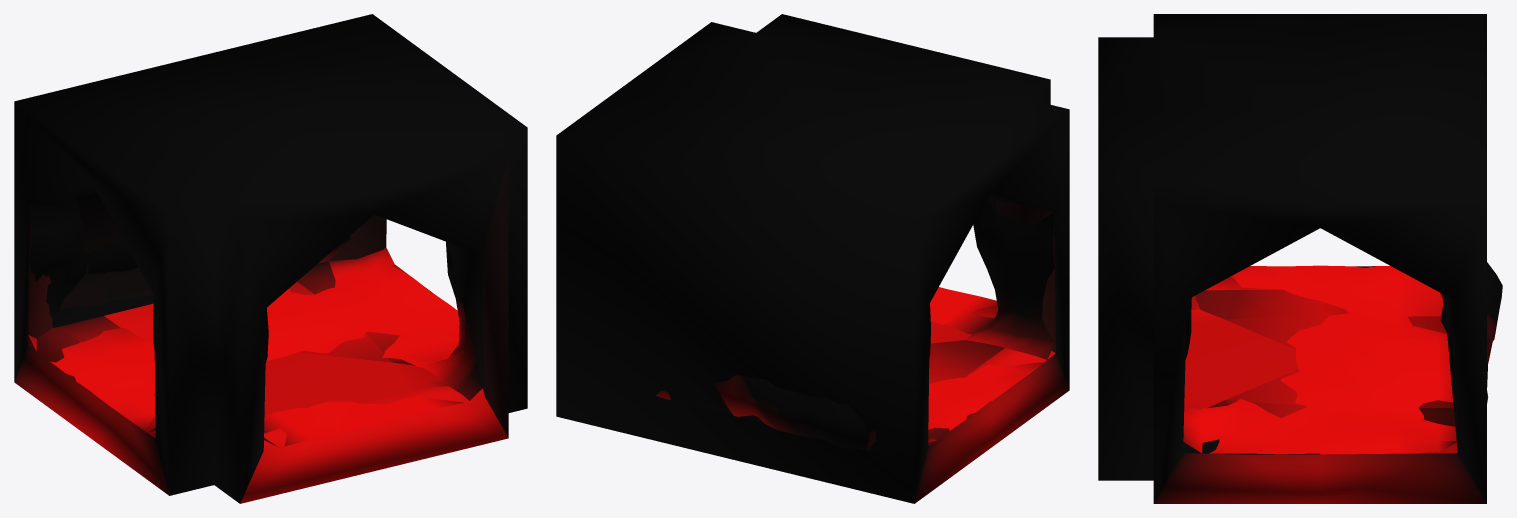
Rendered from JD_Cave_A_Tunnel_6x6_3Way_01.fbx.
3 views of the same model, side by side, from view 1: azimuth 30°, elevation 25°; view 2: azimuth 150°, elevation 25°; view 3: azimuth 270°, elevation 25° (orthographic). The views are drawn at different scales.
Parts seen in each view (by area): view 1: C_JD_Cave_A_Tunnel_6x6_3Way_01, JD_Cave_A_Tunnel_6x6_3Way_01; view 2: C_JD_Cave_A_Tunnel_6x6_3Way_01, JD_Cave_A_Tunnel_6x6_3Way_01; view 3: C_JD_Cave_A_Tunnel_6x6_3Way_01, JD_Cave_A_Tunnel_6x6_3Way_01.
Part boxes in pixels (<box>): C_JD_Cave_A_Tunnel_6x6_3Way_01: <box>14,14,527,503</box>; JD_Cave_A_Tunnel_6x6_3Way_01: <box>28,191,484,446</box>; C_JD_Cave_A_Tunnel_6x6_3Way_01: <box>556,14,1069,503</box>; JD_Cave_A_Tunnel_6x6_3Way_01: <box>655,199,1055,451</box>; C_JD_Cave_A_Tunnel_6x6_3Way_01: <box>1098,14,1488,503</box>; JD_Cave_A_Tunnel_6x6_3Way_01: <box>1183,262,1502,454</box>.
Bounding box in the file's own units: 8 × 6 × 7.28.
